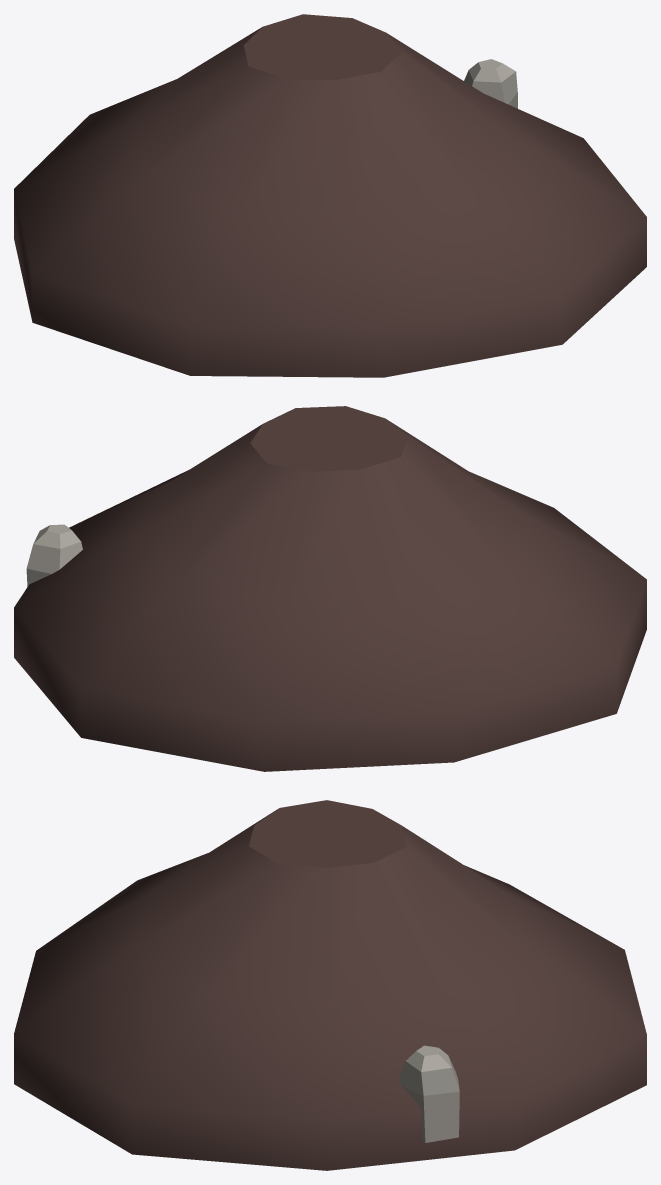
The model's file is site_heap1.fbx.
3 renders of one model, top to bottom at view 1: azimuth 30°, elevation 25°; view 2: azimuth 150°, elevation 25°; view 3: azimuth 270°, elevation 25°, orthographic.
Parts seen in each view (by area): view 1: a1022/0/site_heap1; view 2: a1022/0/site_heap1; view 3: a1022/0/site_heap1.
Boxes of the visible parts, <box> form: a1022/0/site_heap1: <box>14,14,646,377</box>; a1022/0/site_heap1: <box>14,406,646,771</box>; a1022/0/site_heap1: <box>14,800,646,1170</box>.
Bounding box in the file's own units: 6 × 2.12 × 5.91.
